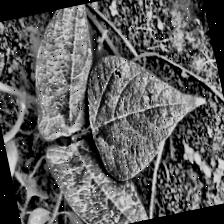ALS: (78, 46, 215, 198), (15, 1, 121, 148), (47, 126, 166, 224)
